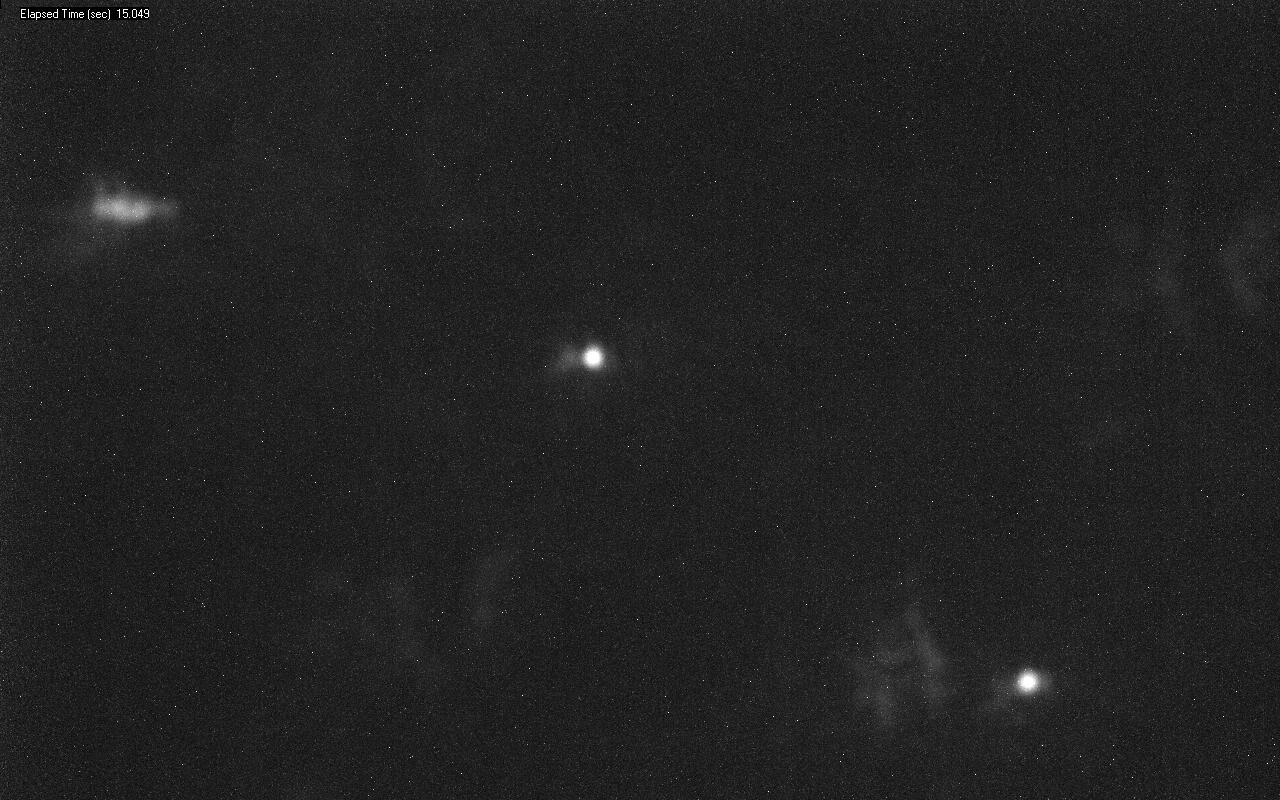Bead: (1019, 671, 1038, 692), (583, 347, 602, 367)
